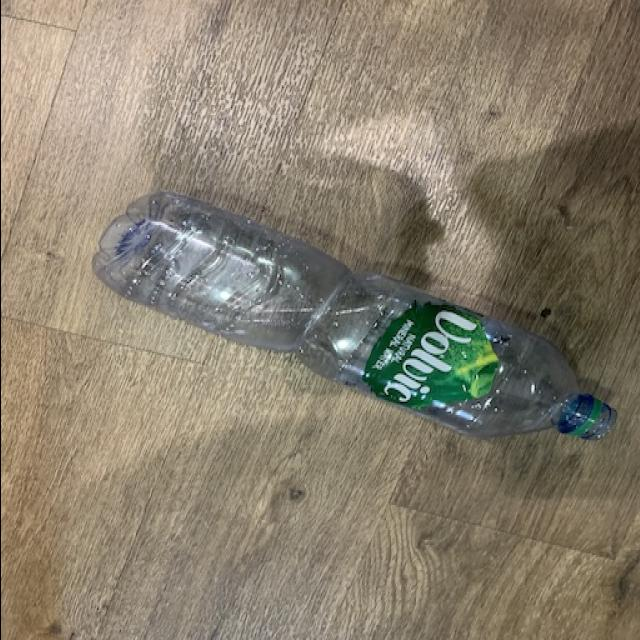PET: (92, 195, 618, 450)
